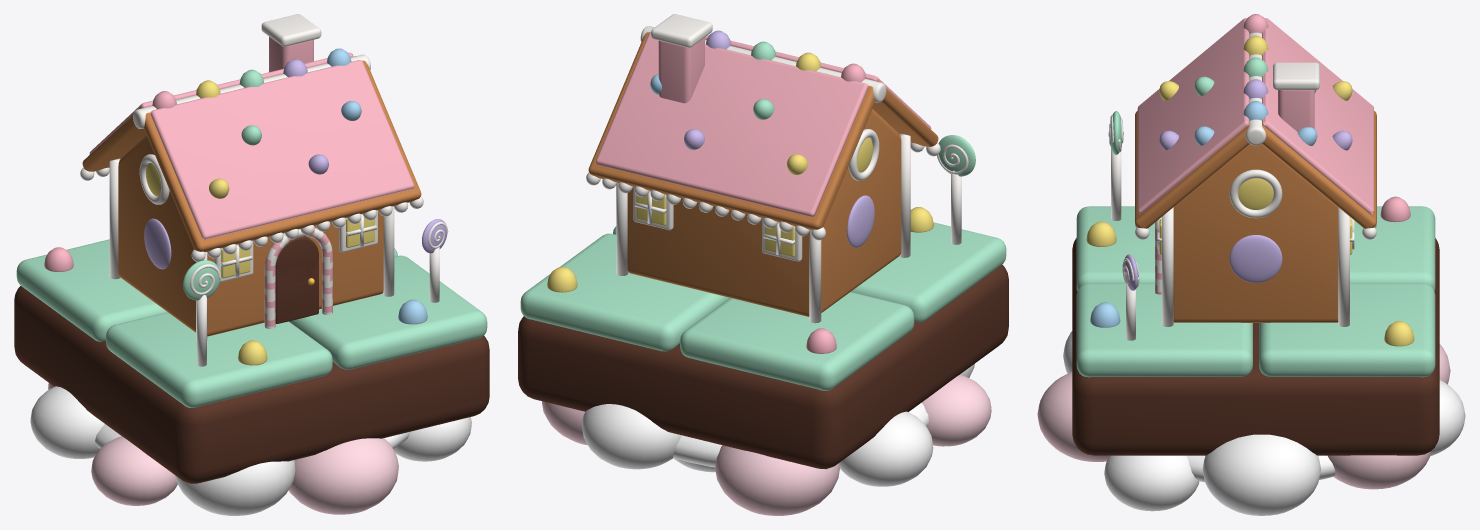
The model's file is gingerbread_house.glb.
3 views of the same model, side by side, from view 1: azimuth 30°, elevation 25°; view 2: azimuth 150°, elevation 25°; view 3: azimuth 270°, elevation 25° (orthographic). The views are drawn at different scales.
Parts seen in each view (by area): view 1: gingerbread_house; view 2: gingerbread_house; view 3: gingerbread_house.
Boxes of the visible parts, bbox=[...] form: gingerbread_house: bbox=[14, 14, 489, 515]; gingerbread_house: bbox=[518, 14, 1008, 515]; gingerbread_house: bbox=[1037, 14, 1465, 515].
Size of the model in its own units: 6.17 by 6.2 by 5.82.
